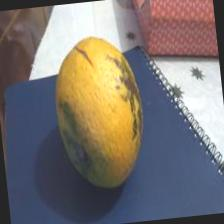Orange Rotten: (44, 24, 156, 197)
